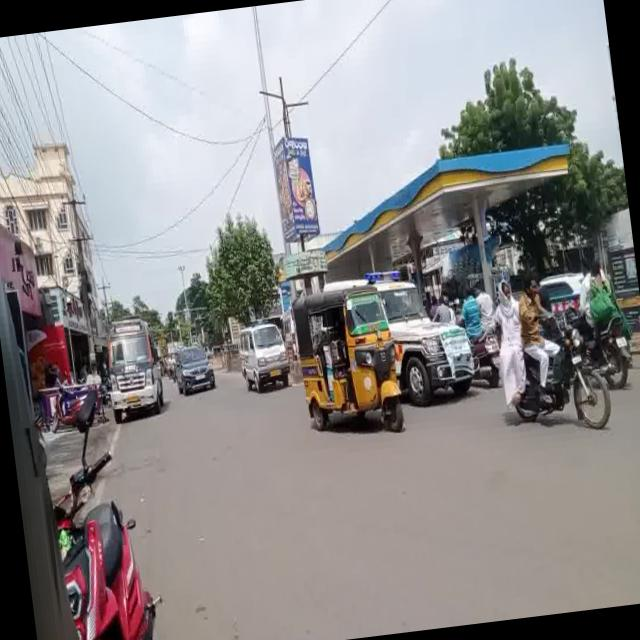ambulance: (374, 262, 476, 392), (93, 311, 162, 418), (225, 318, 294, 390)
